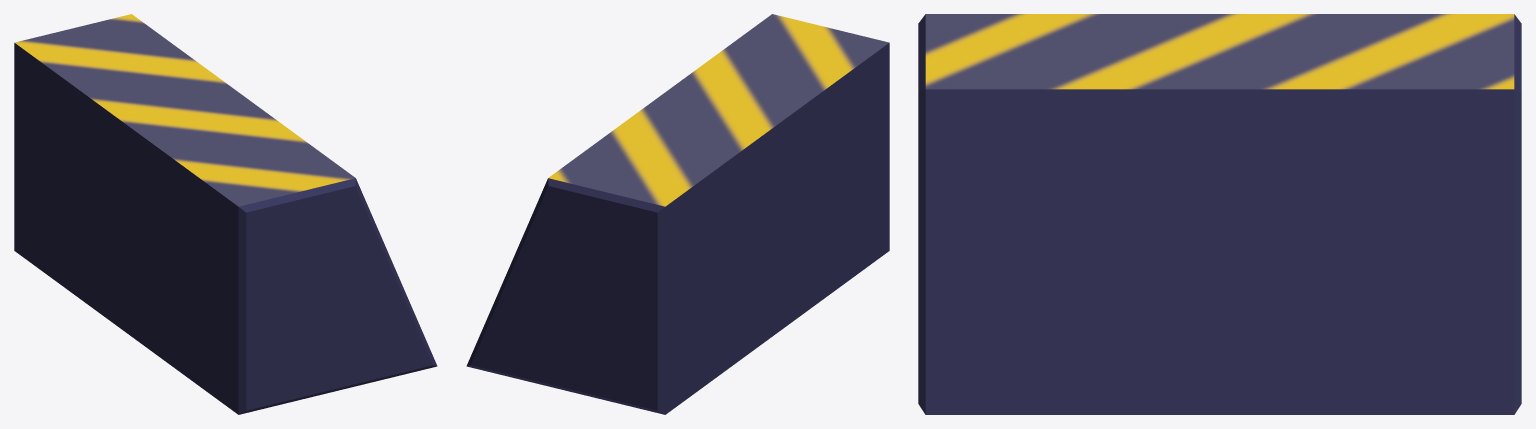
Rendered from newyork_barrier_4x8_tape.fbx.
The picture shows the model from 3 angles, left to right: view 1: azimuth 30°, elevation 25°; view 2: azimuth 150°, elevation 25°; view 3: azimuth 270°, elevation 25°; orthographic projection. The views are drawn at different scales.
Visible parts, largest first — view 1: newyork_wall_4x8_tape.001; view 2: newyork_wall_4x8_tape.001; view 3: newyork_wall_4x8_tape.001.
Part boxes in pixels (x1=…): newyork_wall_4x8_tape.001: x1=14, y1=14, x2=437, y2=414; newyork_wall_4x8_tape.001: x1=466, y1=14, x2=889, y2=414; newyork_wall_4x8_tape.001: x1=918, y1=14, x2=1521, y2=414.
Size of the model in its own units: 188 by 188 by 376.
2 materials, 2 textured.
